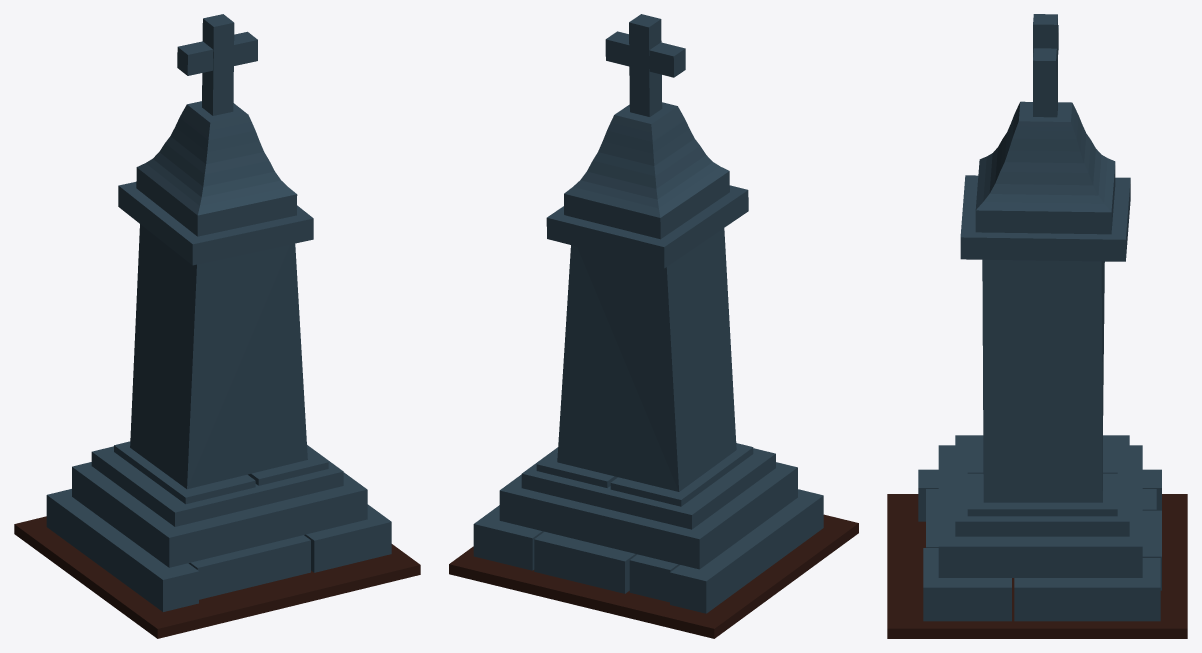
The model's file is gravestone2.obj.
3 renders of one model, left to right at view 1: azimuth 30°, elevation 25°; view 2: azimuth 150°, elevation 25°; view 3: azimuth 270°, elevation 25°, orthographic. The views are drawn at different scales.
Visible parts, largest first — view 1: gravestone2; view 2: gravestone2; view 3: gravestone2.
Part boxes in pixels (x1,y1,x2,y2): gravestone2: [14, 14, 420, 638]; gravestone2: [449, 14, 858, 638]; gravestone2: [887, 14, 1187, 638].
Bounding box in the file's own units: 1.35 × 2.59 × 1.27.
